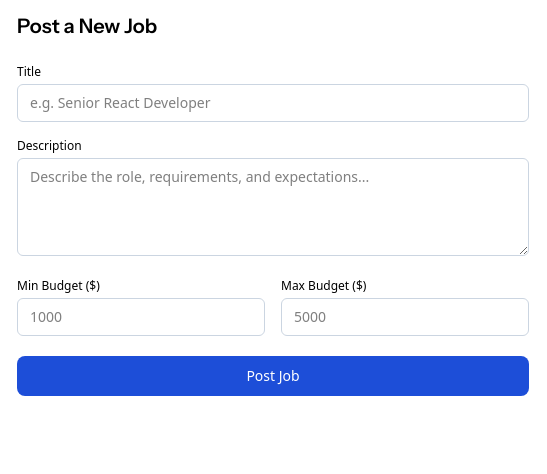
Test: CreateJobForm › validates required fields on submit
Click the button "Post Job" at (273, 376), box [17,356,529,396]
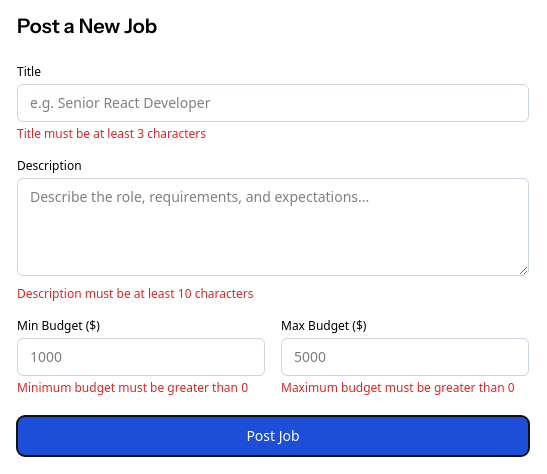
Expected: the text "Title must be at least 3 characters" is shown, [17,125,206,142]
Expected: the text "Description must be at least 10 characters" is shown, [17,285,254,302]
Expected: the text "Minimum budget must be greater than 0" is shown, [17,380,265,396]
